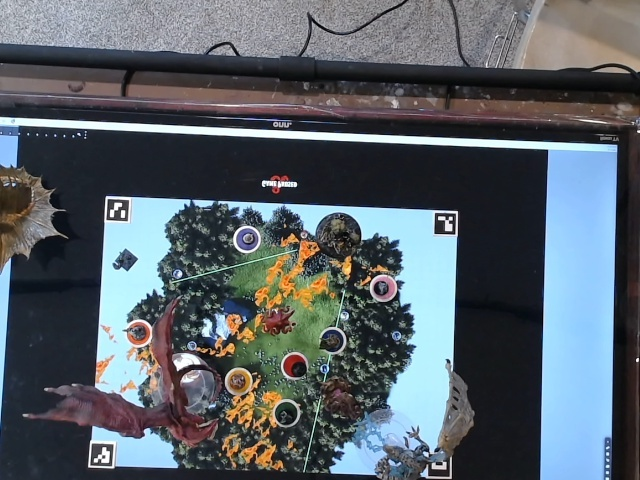blue: (316, 322, 354, 354)
green: (268, 398, 306, 432)
orange: (123, 315, 159, 352)
pink: (366, 271, 400, 309)
red: (275, 351, 315, 381)
violet: (232, 226, 267, 255)
yellow: (222, 364, 255, 397)
